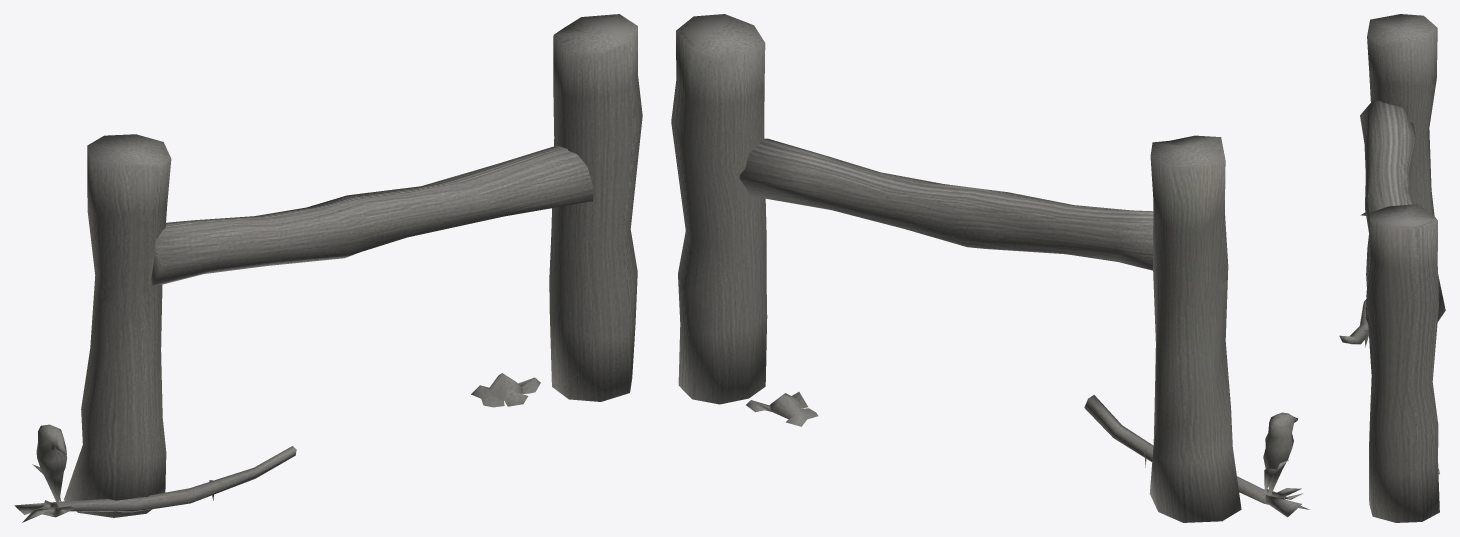
The model's file is world-fence.glb.
3 views of the same model, side by side, from view 1: azimuth 30°, elevation 25°; view 2: azimuth 150°, elevation 25°; view 3: azimuth 270°, elevation 25° (orthographic). The views are drawn at different scales.
Bounding box in the file's own units: 3 × 1.65 × 0.5327.
1 material, 1 textured.
